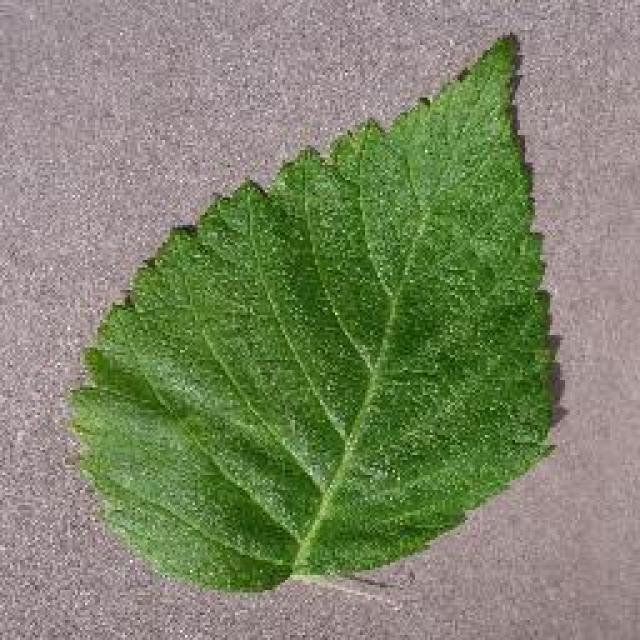Ras_healthy: (104, 71, 550, 553)
